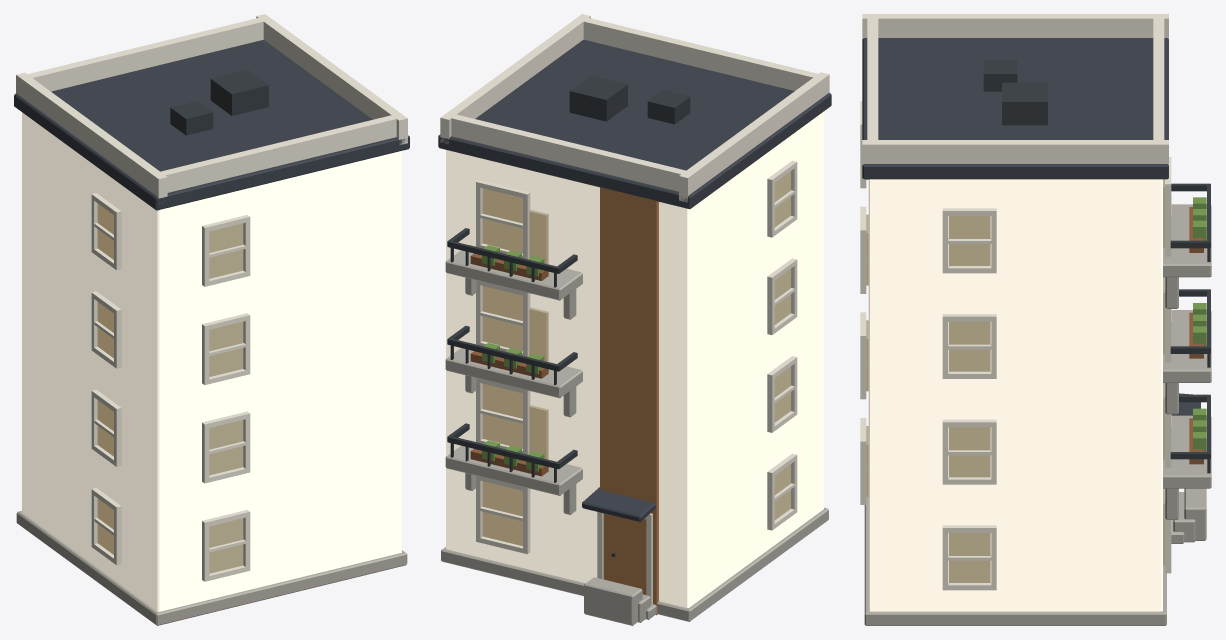
File: apartment_modern_balconies.glb
The picture shows the model from 3 angles, left to right: view 1: azimuth 30°, elevation 25°; view 2: azimuth 150°, elevation 25°; view 3: azimuth 270°, elevation 25°; orthographic projection. The views are drawn at different scales.
Visible parts, largest first — view 1: Building_Apartment_Modern_Balconies_Cream2, Building_Apartment_Modern_Balconies_Trim, Building_Apartment_Modern_Balconies_Roof_Dark, Building_Apartment_Modern_Balconies_Glass, Building_Apartment_Modern_Balconies_Concrete, Building_Apartment_Modern_Balconies_Metal; view 2: Building_Apartment_Modern_Balconies_Cream2, Building_Apartment_Modern_Balconies_Trim, Building_Apartment_Modern_Balconies_Roof_Dark, Building_Apartment_Modern_Balconies_Wood2, Building_Apartment_Modern_Balconies_Concrete, Building_Apartment_Modern_Balconies_Glass, Building_Apartment_Modern_Balconies_Metal, Building_Apartment_Modern_Balconies_Wood, Building_Apartment_Modern_Balconies_Green, Building_Apartment_Modern_Balconies_Roof; view 3: Building_Apartment_Modern_Balconies_Cream2, Building_Apartment_Modern_Balconies_Roof_Dark, Building_Apartment_Modern_Balconies_Trim, Building_Apartment_Modern_Balconies_Concrete, Building_Apartment_Modern_Balconies_Glass, Building_Apartment_Modern_Balconies_Metal, Building_Apartment_Modern_Balconies_Green, Building_Apartment_Modern_Balconies_Wood.
Part boxes in pixels (<box>): Building_Apartment_Modern_Balconies_Cream2: <box>22,112,401,611</box>; Building_Apartment_Modern_Balconies_Trim: <box>16,14,407,581</box>; Building_Apartment_Modern_Balconies_Roof_Dark: <box>14,39,409,210</box>; Building_Apartment_Modern_Balconies_Glass: <box>97,203,243,573</box>; Building_Apartment_Modern_Balconies_Concrete: <box>16,510,407,625</box>; Building_Apartment_Modern_Balconies_Metal: <box>170,69,268,135</box>; Building_Apartment_Modern_Balconies_Cream2: <box>446,111,823,607</box>; Building_Apartment_Modern_Balconies_Trim: <box>440,14,829,604</box>; Building_Apartment_Modern_Balconies_Roof_Dark: <box>438,39,831,209</box>; Building_Apartment_Modern_Balconies_Wood2: <box>600,187,658,615</box>; Building_Apartment_Modern_Balconies_Concrete: <box>441,245,828,625</box>; Building_Apartment_Modern_Balconies_Glass: <box>482,171,790,545</box>; Building_Apartment_Modern_Balconies_Metal: <box>447,75,690,557</box>; Building_Apartment_Modern_Balconies_Wood: <box>470,253,548,476</box>; Building_Apartment_Modern_Balconies_Green: <box>482,245,544,471</box>; Building_Apartment_Modern_Balconies_Roof: <box>582,487,655,521</box>; Building_Apartment_Modern_Balconies_Cream2: <box>868,179,1162,611</box>; Building_Apartment_Modern_Balconies_Roof_Dark: <box>862,38,1168,179</box>; Building_Apartment_Modern_Balconies_Trim: <box>860,14,1171,590</box>; Building_Apartment_Modern_Balconies_Concrete: <box>864,204,1211,625</box>; Building_Apartment_Modern_Balconies_Glass: <box>866,179,1164,582</box>; Building_Apartment_Modern_Balconies_Metal: <box>983,59,1210,473</box>; Building_Apartment_Modern_Balconies_Green: <box>1193,197,1206,451</box>; Building_Apartment_Modern_Balconies_Wood: <box>1189,207,1203,464</box>.
Size of the model in its own units: 5.24 by 8.73 by 5.73.
